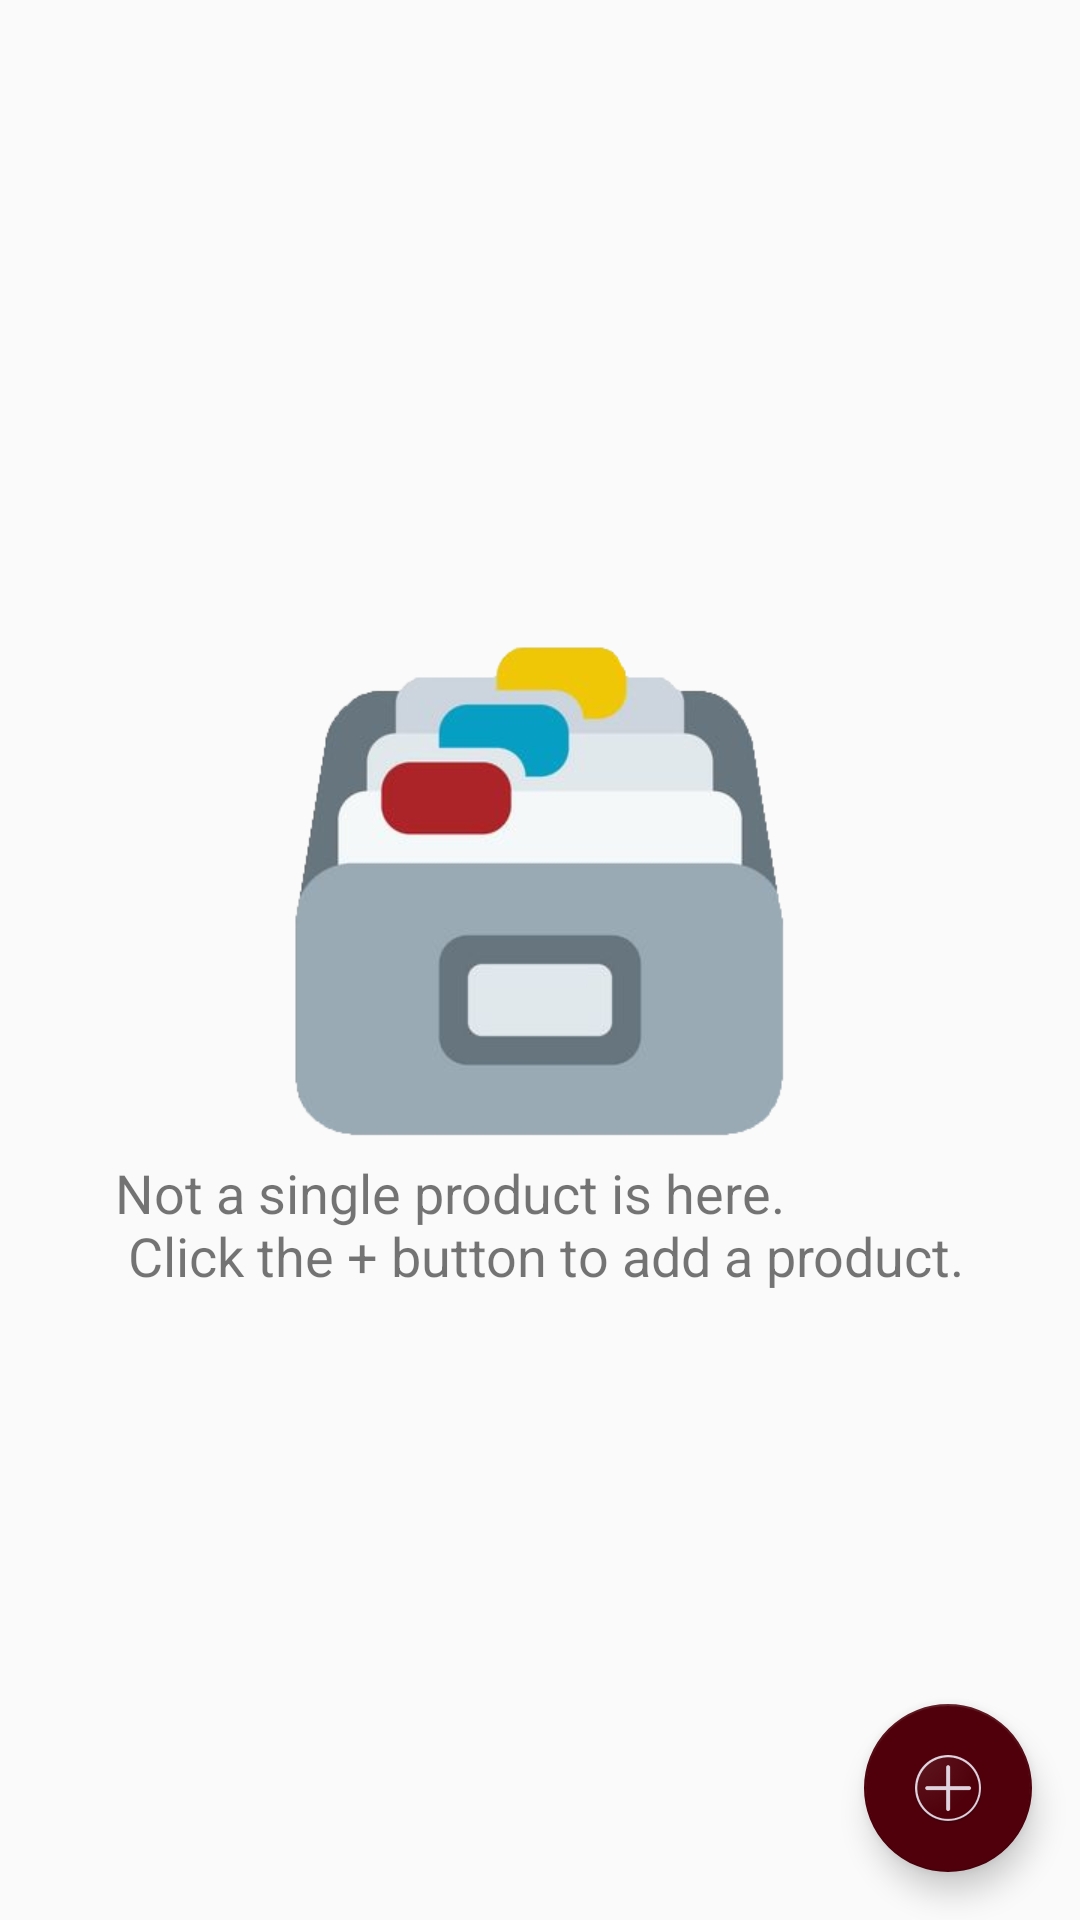

Icon click points for this 1080w x 1920h phone screenshot, format (x,y):
fab: (948,1788)
